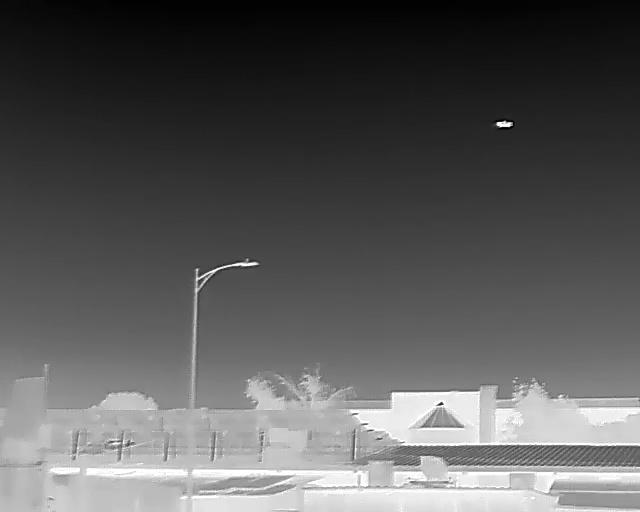fpv-drone: (494, 120, 514, 129)
